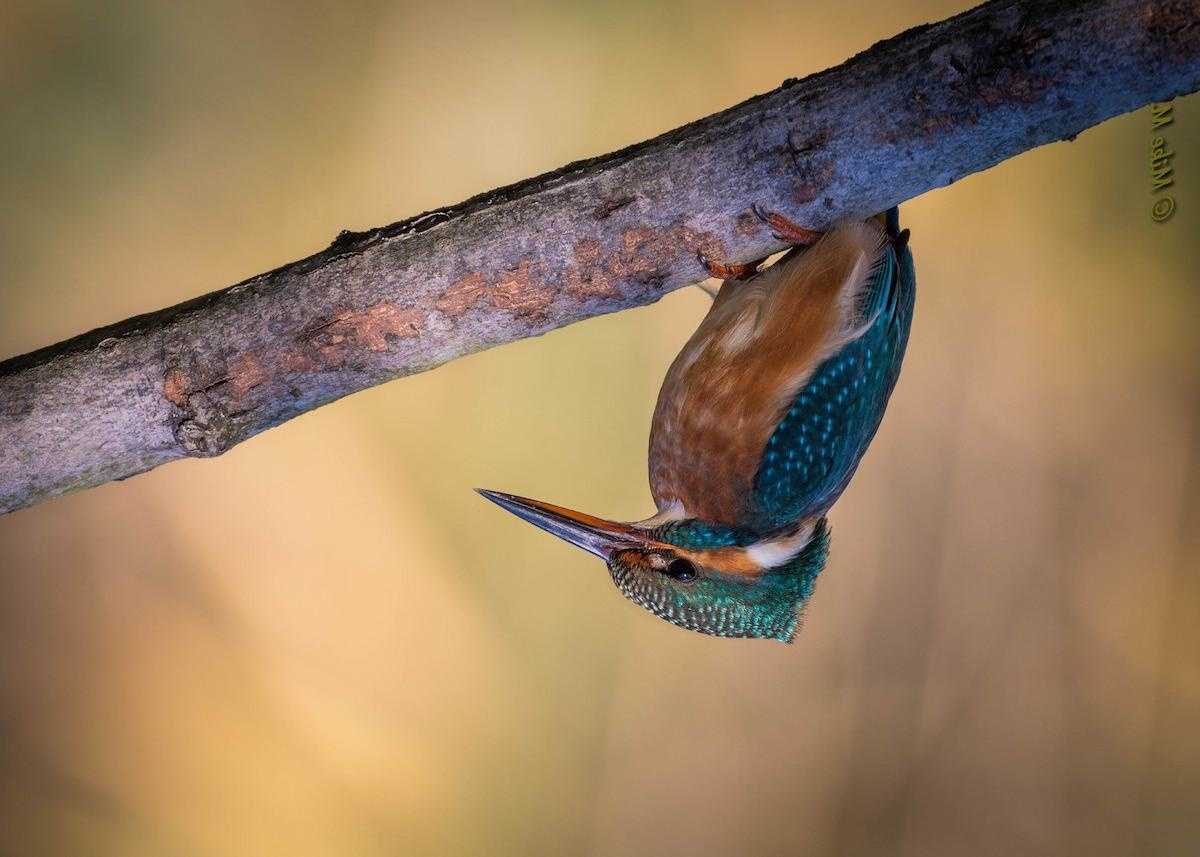kingfisher: (475, 178, 907, 653)
